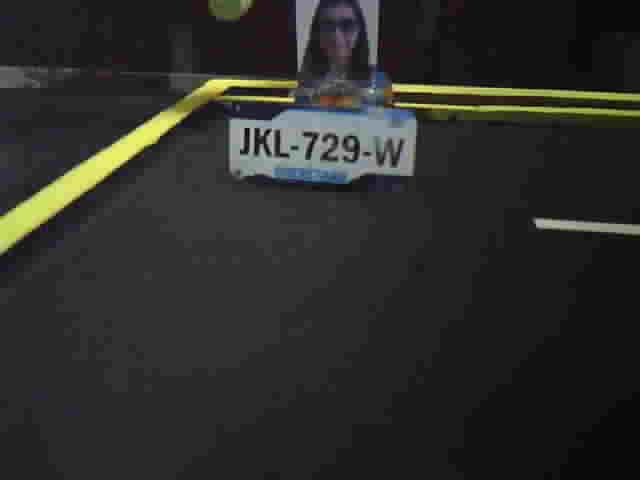PLACA: (225, 100, 421, 199)
ROSTRO: (298, 1, 377, 91)
